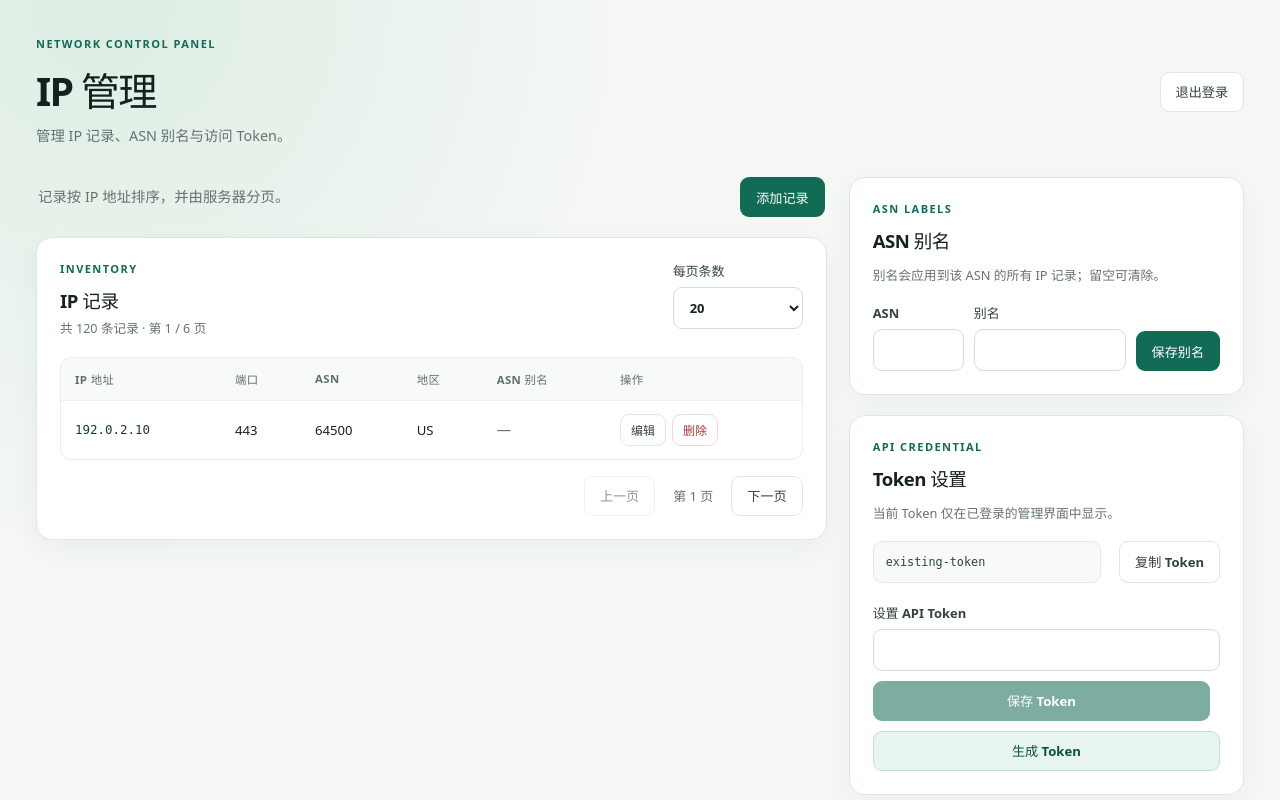
paginated records › ignores an older page-size response that resolves after the latest one
Expected: the text "192.0.2.10" is shown, [61, 400, 221, 459]
Select "50" in the dropdown labelled "每页条数" at {"x": 738, "y": 308}, box [673, 287, 803, 329]
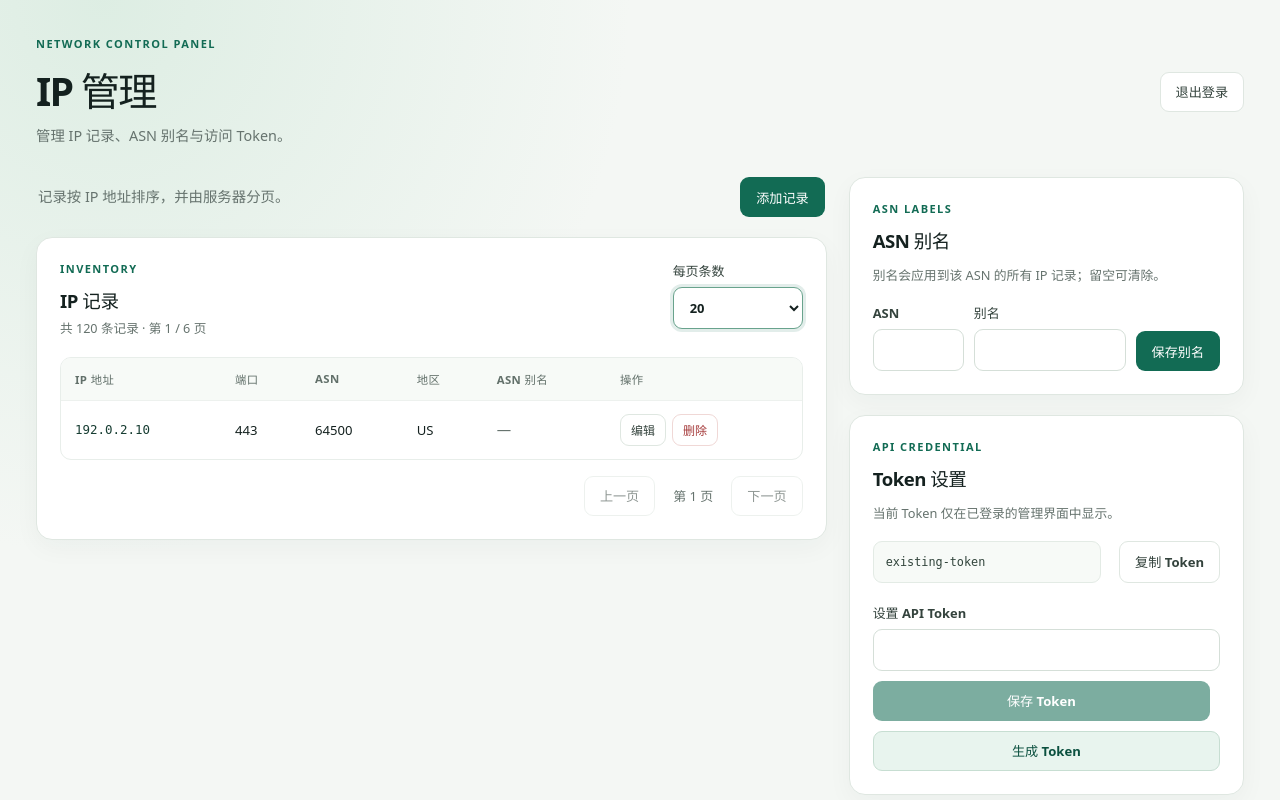
Select "100" in the dropdown labelled "每页条数" at {"x": 738, "y": 308}, box [673, 287, 803, 329]
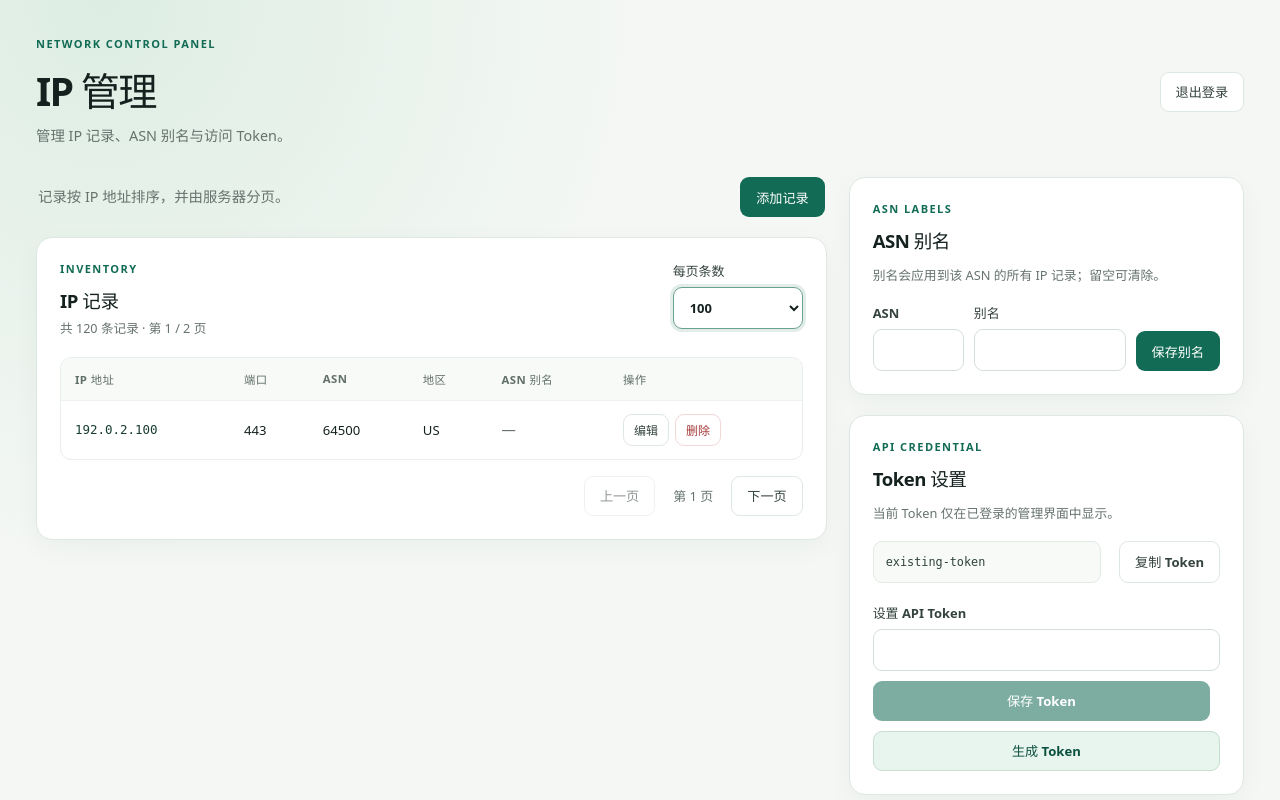
Expected: the text "192.0.2.100" is shown, [61, 400, 230, 459]
